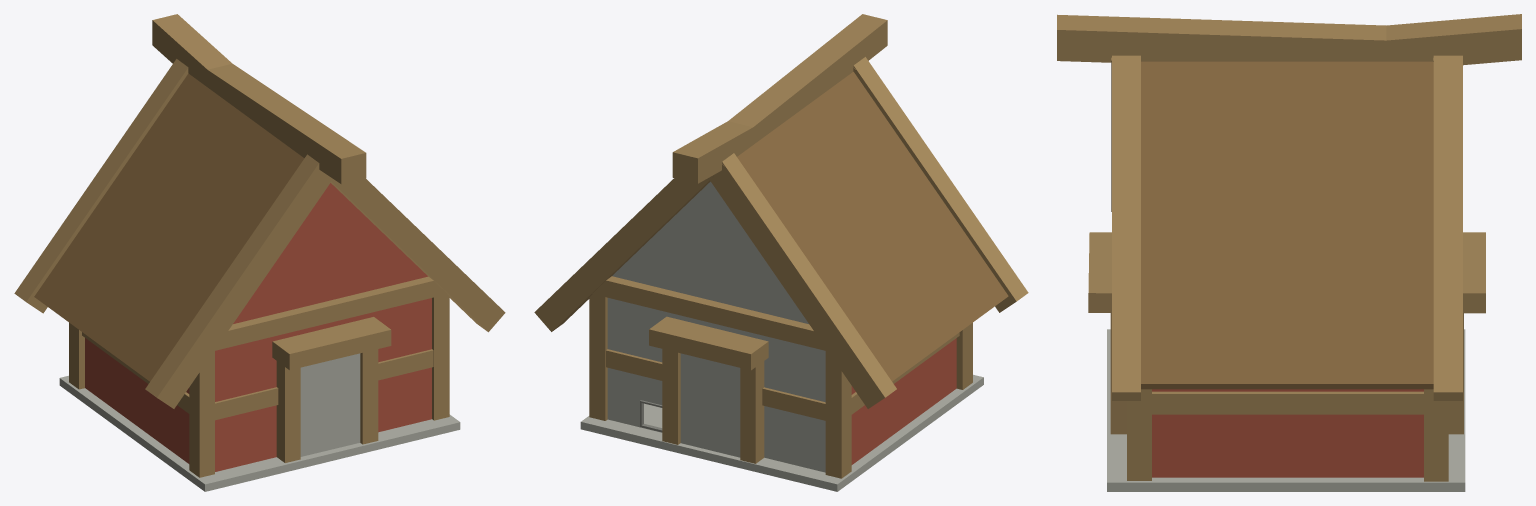
File: cat House mesh.fbx
The picture shows the model from 3 angles, left to right: view 1: azimuth 30°, elevation 25°; view 2: azimuth 150°, elevation 25°; view 3: azimuth 270°, elevation 25°; orthographic projection. The views are drawn at different scales.
Visible parts, largest first — view 1: Cube.033; view 2: Cube.033; view 3: Cube.033.
Boxes of the visible parts, x1,y1,x2,y2 form: Cube.033: (14,14,505,491); Cube.033: (534,14,1028,491); Cube.033: (1057,14,1521,491).
Size of the model in its own units: 392 by 344 by 368.
